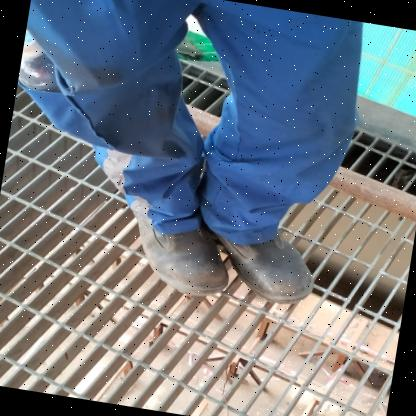bota: (117, 205, 238, 300)
